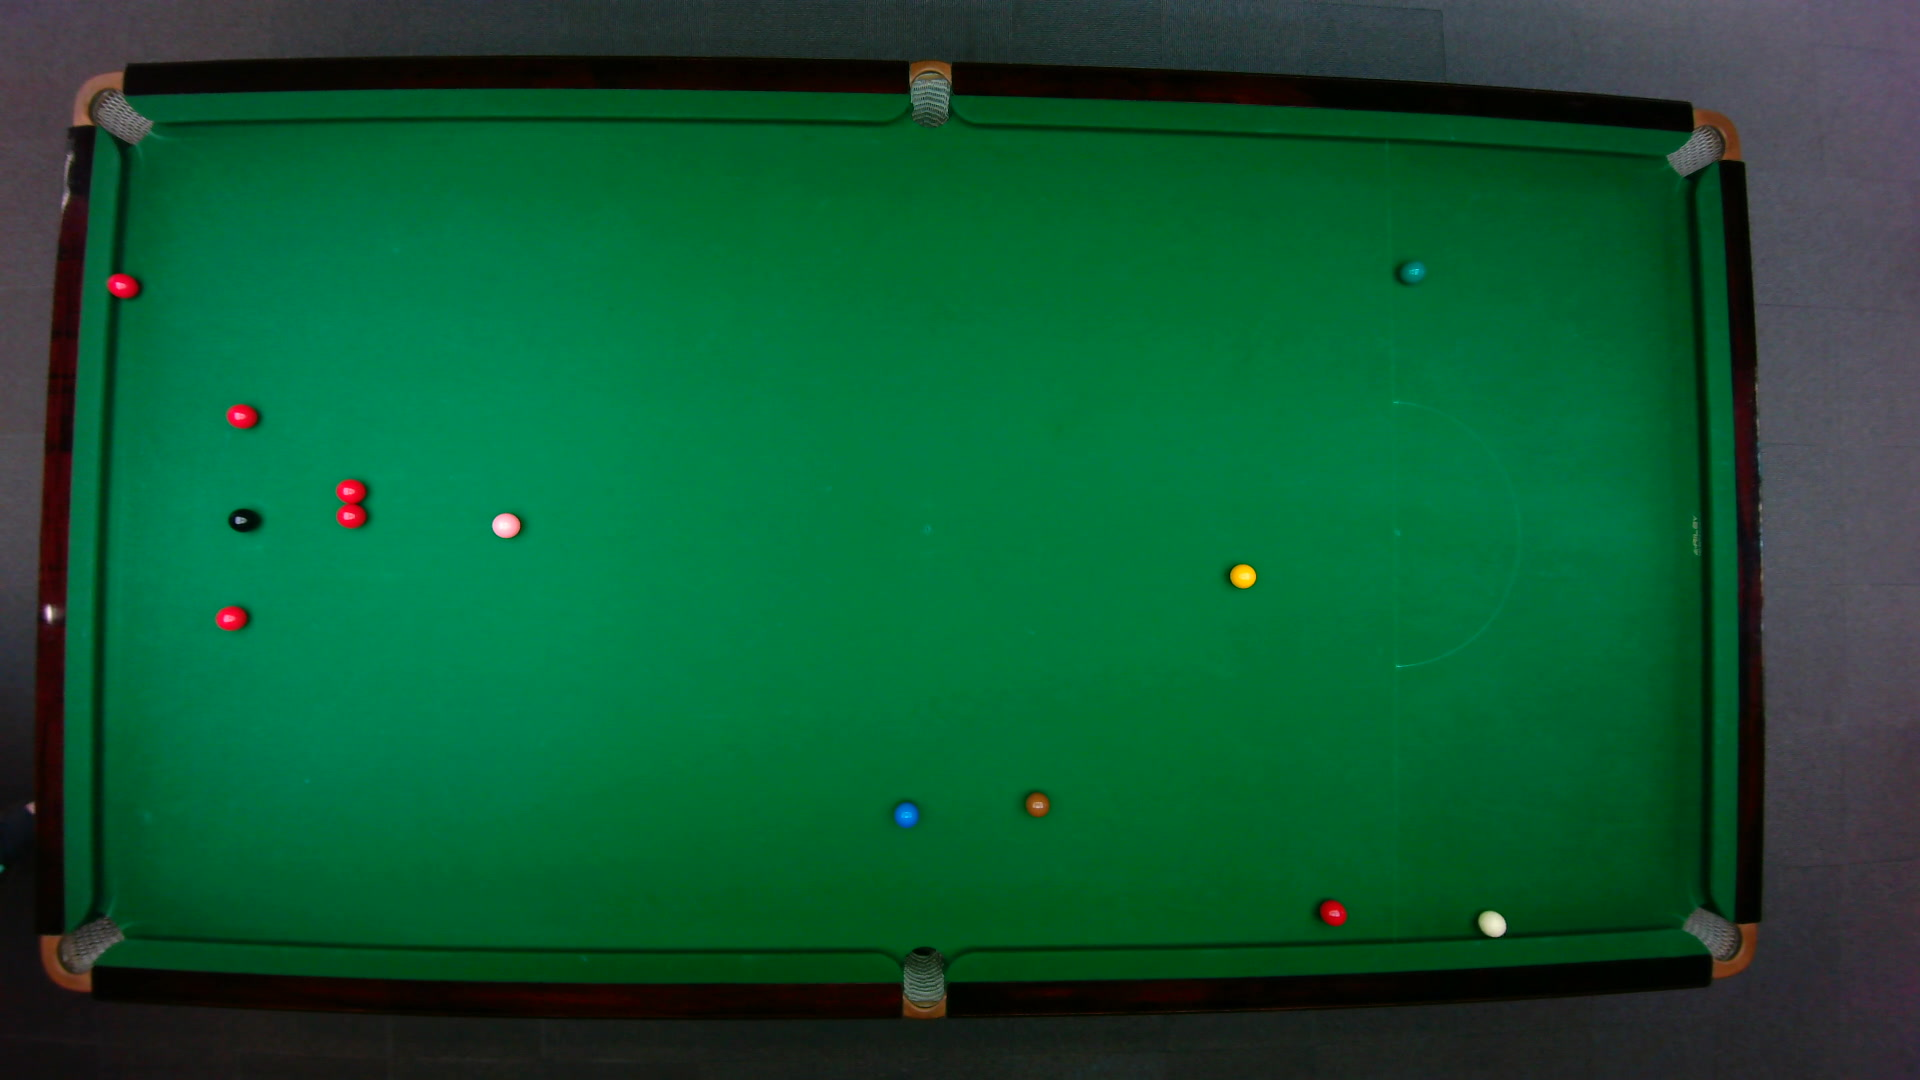bag: (40, 913, 127, 993), (70, 70, 156, 146), (1680, 905, 1759, 978), (1664, 107, 1741, 179), (902, 945, 945, 1021), (909, 59, 952, 129)
black: (225, 506, 262, 534)
blue: (891, 800, 922, 829)
brown: (1023, 790, 1052, 819)
green: (1396, 258, 1428, 286)
pink: (491, 512, 524, 541)
red: (103, 270, 142, 301), (224, 402, 261, 431), (214, 604, 251, 633), (334, 502, 369, 531), (1317, 898, 1349, 928), (334, 477, 369, 502)
white: (1476, 909, 1509, 939)
yellow: (1228, 562, 1258, 591)
zone: (1391, 398, 1520, 669)
